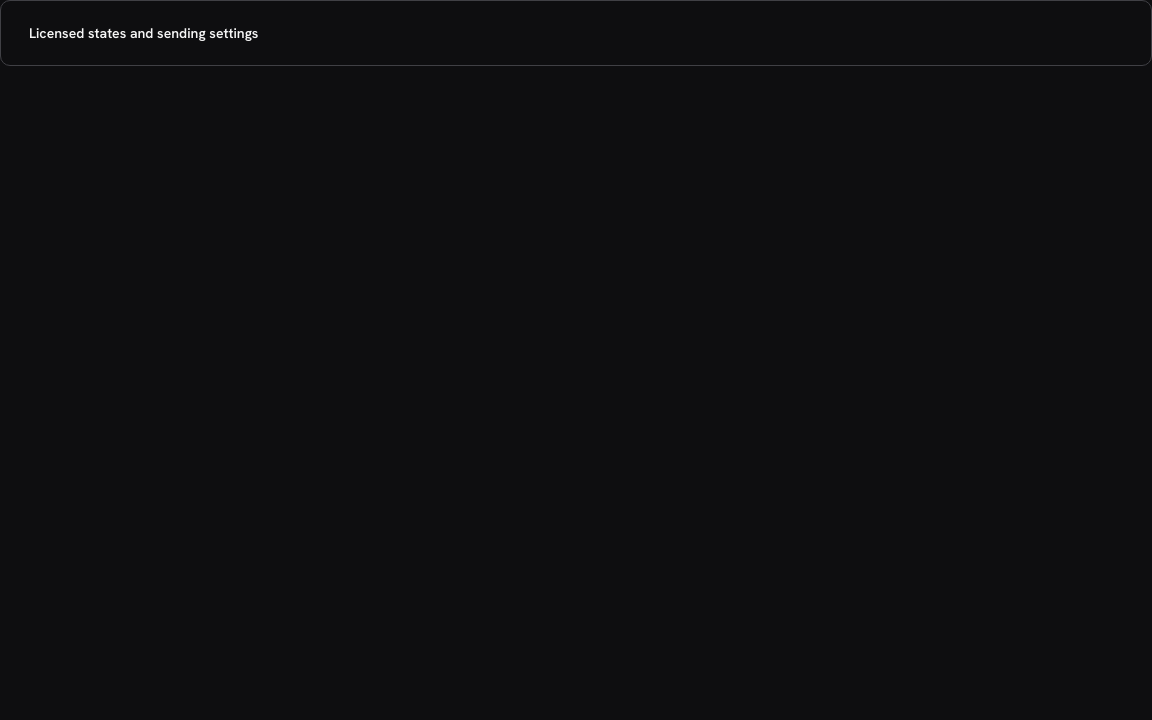
Test case: consumer campaign owner settings › clears previously editable settings after an access failure and supports a fresh read
Click the button "Licensed states and sending settings". click: (144, 33)
box: [13,13,1139,53]
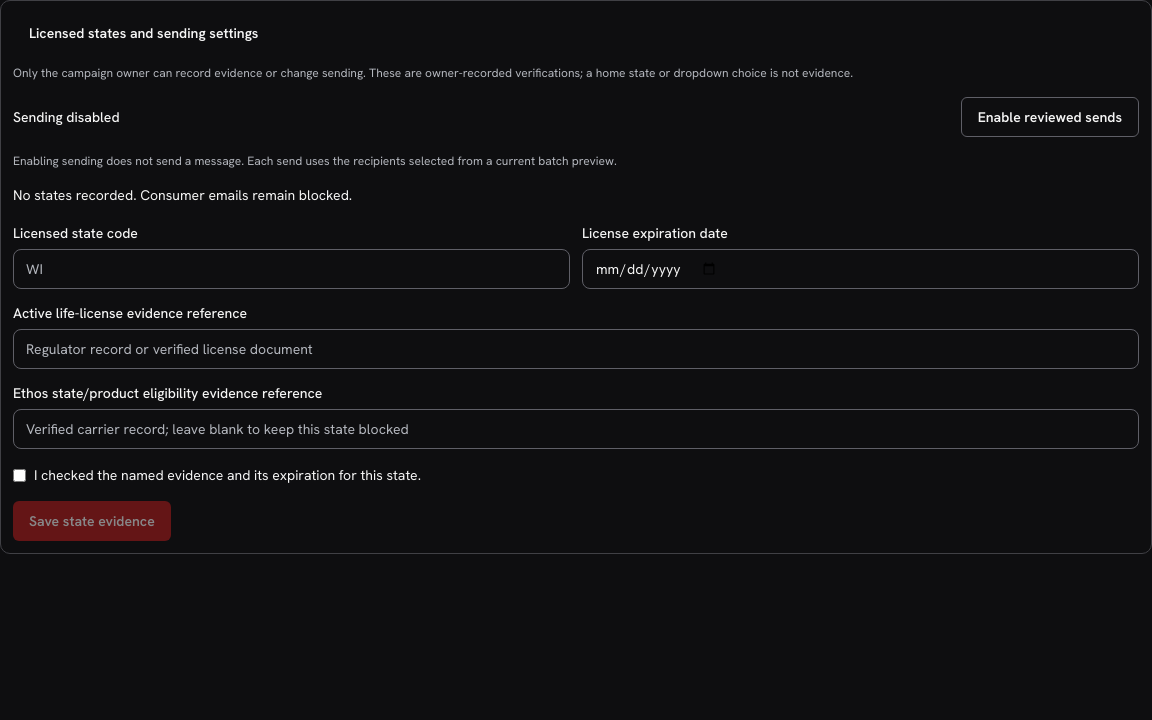
Click the button "Enable reviewed sends". click: (1050, 117)
box: [961,97,1139,137]
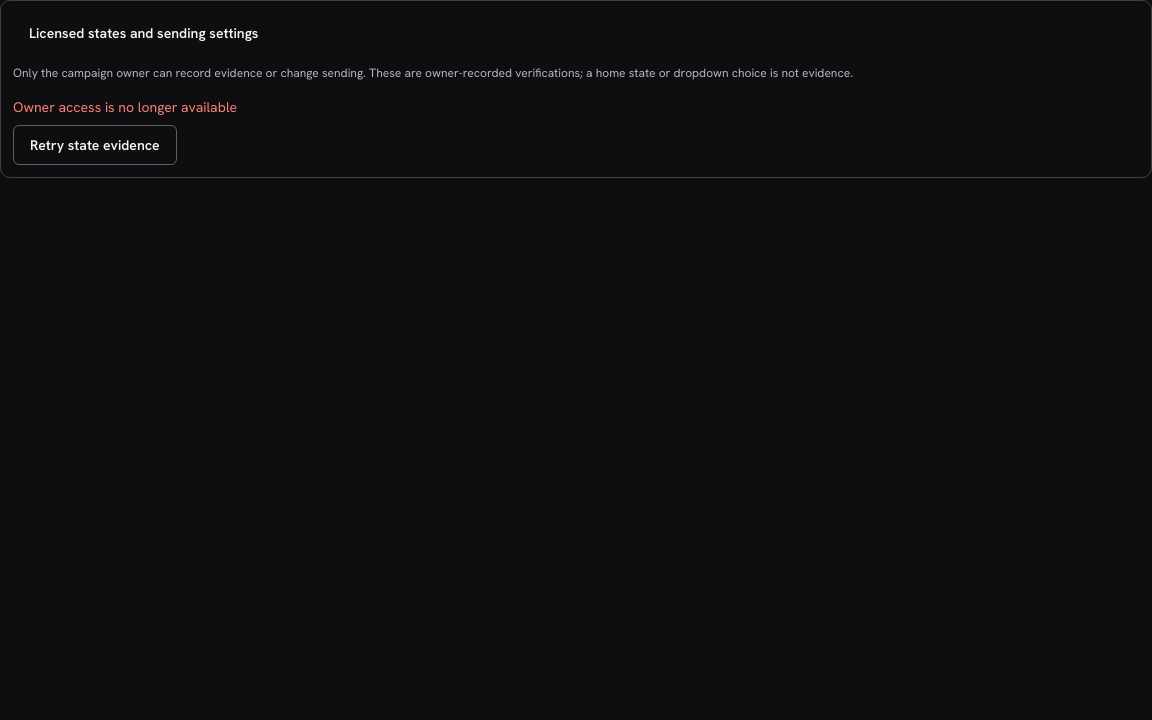
Result: the message reads "Owner access is no longer available" at [13,98,237,116]
Result: the button "Enable reviewed sends" is gone
Result: the button "Save state evidence" is gone
Click the button "Retry state evidence". click: (95, 145)
box: [13,125,177,165]
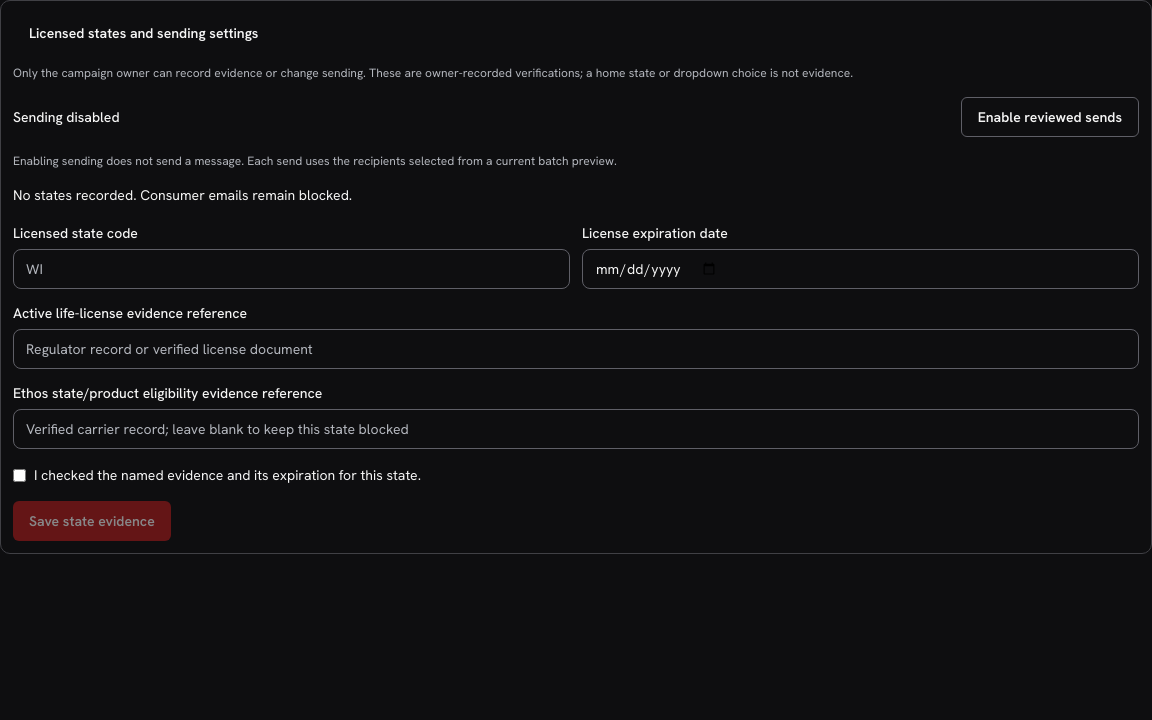
Result: the text "No states recorded. Consumer emails remain blocked." is shown at [13,186,352,204]
Result: the message "Owner access is no longer available" is gone
